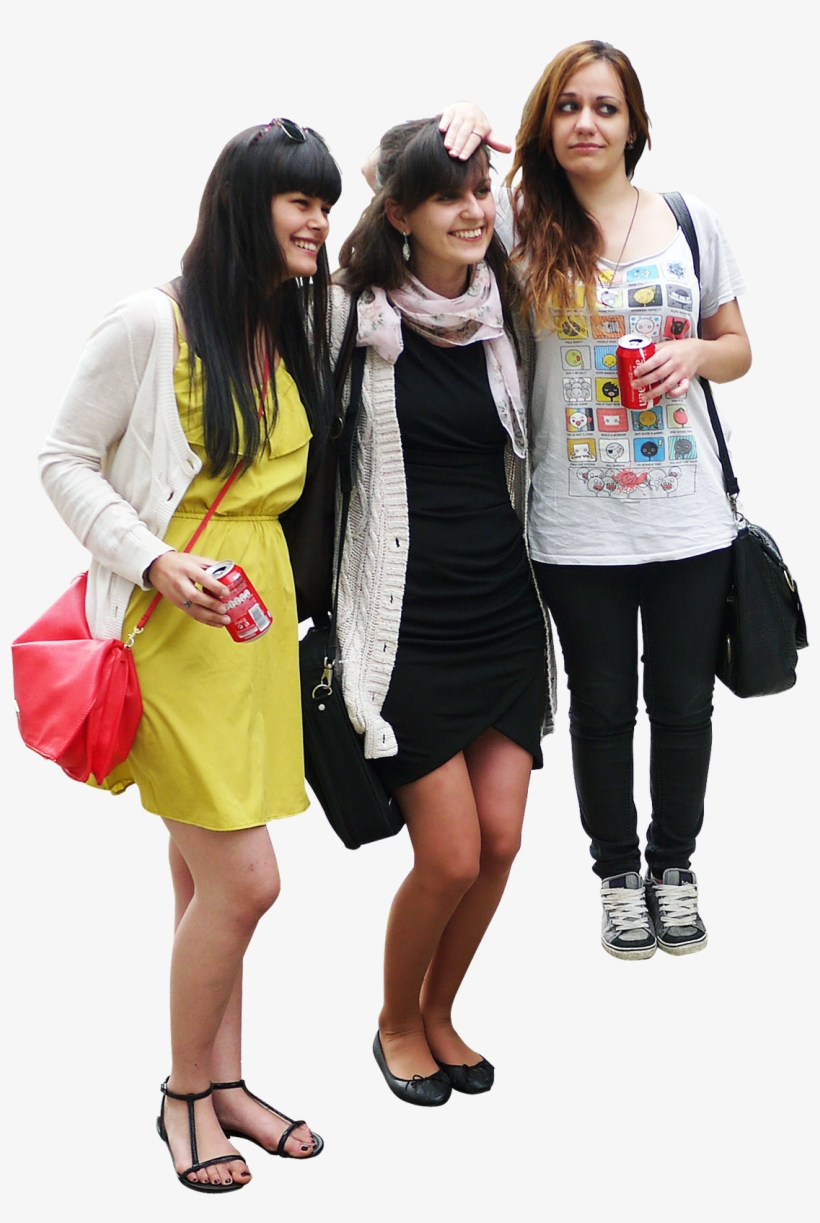face: (373, 117, 504, 272), (229, 121, 346, 283), (537, 42, 642, 185)
